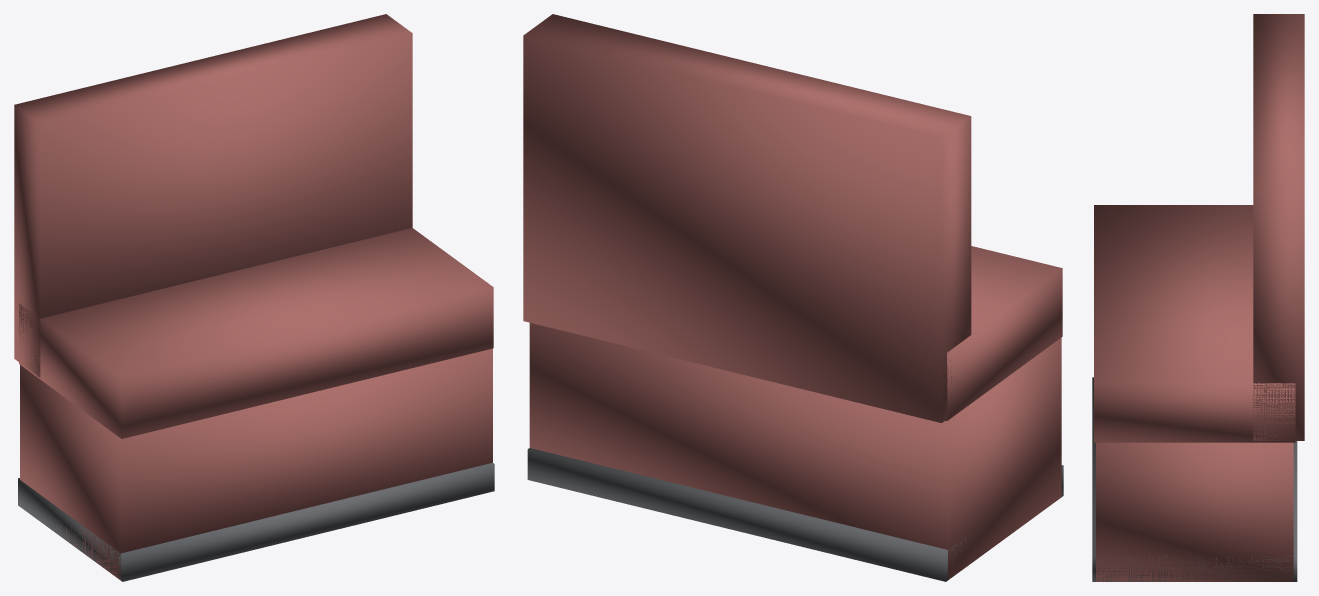
The model's file is diner_booth_single.glb.
3 views of the same model, side by side, from view 1: azimuth 30°, elevation 25°; view 2: azimuth 150°, elevation 25°; view 3: azimuth 270°, elevation 25° (orthographic). The views are drawn at different scales.
Parts seen in each view (by area): view 1: world; view 2: world; view 3: world.
Part boxes in pixels (bbox=[...]): world: bbox=[14, 14, 494, 581]; world: bbox=[523, 14, 1063, 581]; world: bbox=[1092, 14, 1304, 581].
Bounding box in the file's own units: 1.15 × 1.17 × 0.58.
